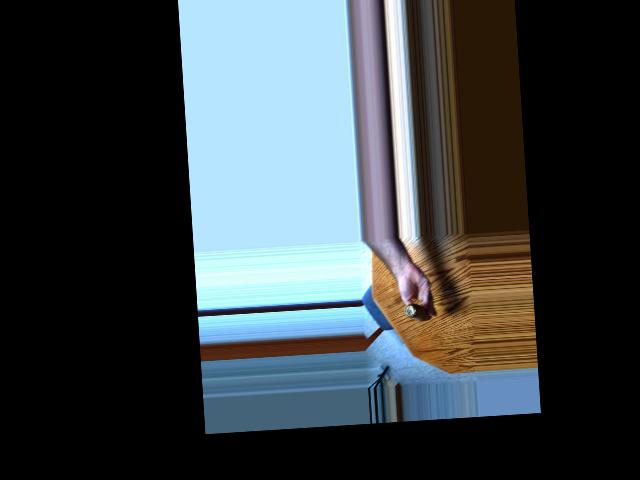sweet_potato: (400, 297, 432, 323)
